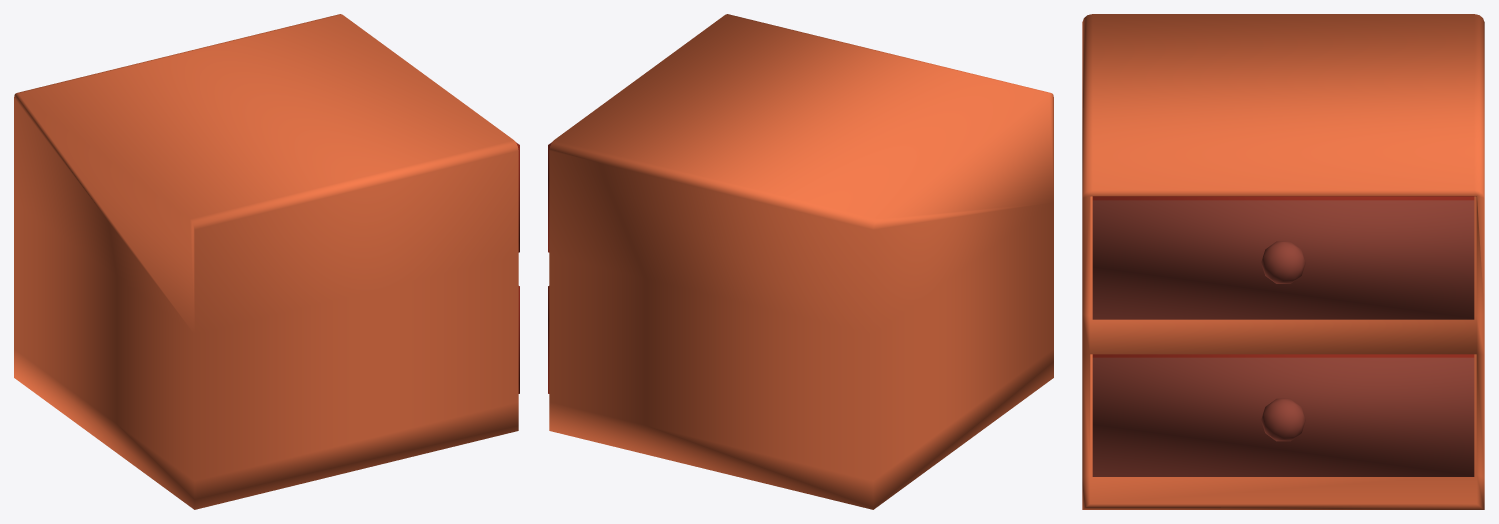
Rendered from Drawer.fbx.
3 renders of one model, left to right at view 1: azimuth 30°, elevation 25°; view 2: azimuth 150°, elevation 25°; view 3: azimuth 270°, elevation 25°, orthographic. The views are drawn at different scales.
Visible parts, largest first — view 1: Cube; view 2: Cube; view 3: Cube, Cube.001, Cube.002.
Part boxes in pixels (x1,y1,x2,y2): Cube: [14, 14, 518, 509]; Cube: [549, 14, 1053, 509]; Cube: [1082, 14, 1484, 509]; Cube.001: [1092, 196, 1474, 319]; Cube.002: [1092, 354, 1474, 476].
Bounding box in the file's own units: 461 × 352 × 401.
